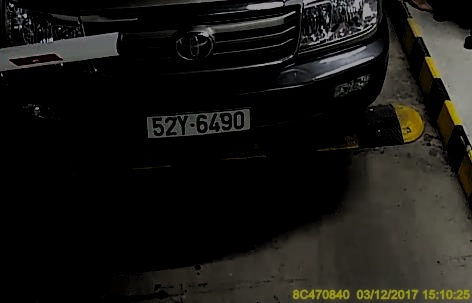plate: (145, 112, 251, 136)
